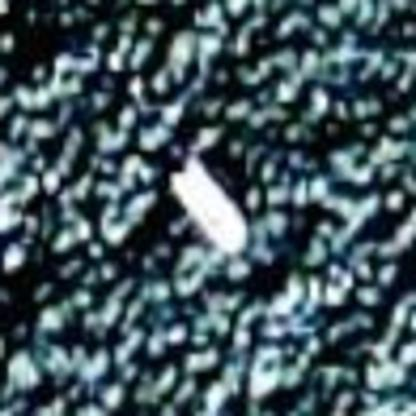ship: (151, 140, 260, 258)
